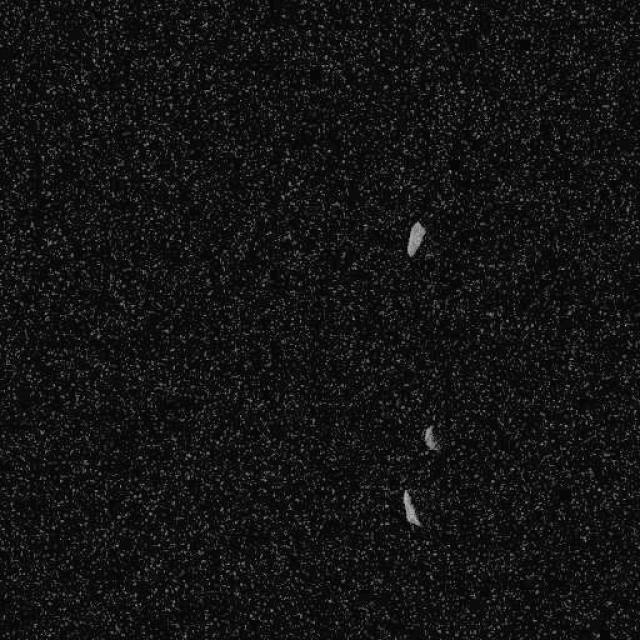D2: (405, 218, 426, 258), (402, 488, 422, 528), (421, 423, 440, 452)
